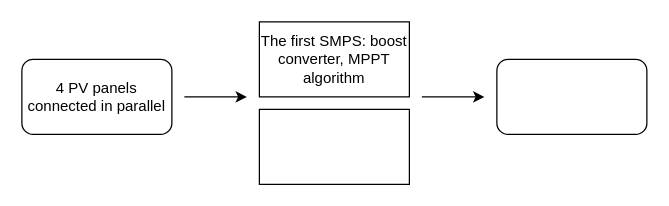
The diagram is 669 pixels wide and 206 high, and some of its shapes have lost their labels. Here are the shapes that lost their labels. From the top down, the box of each, then its label:
(496, 58, 647, 134): Charge the battery
(258, 108, 409, 184): The second SMPS: buck converter, charging regulation
